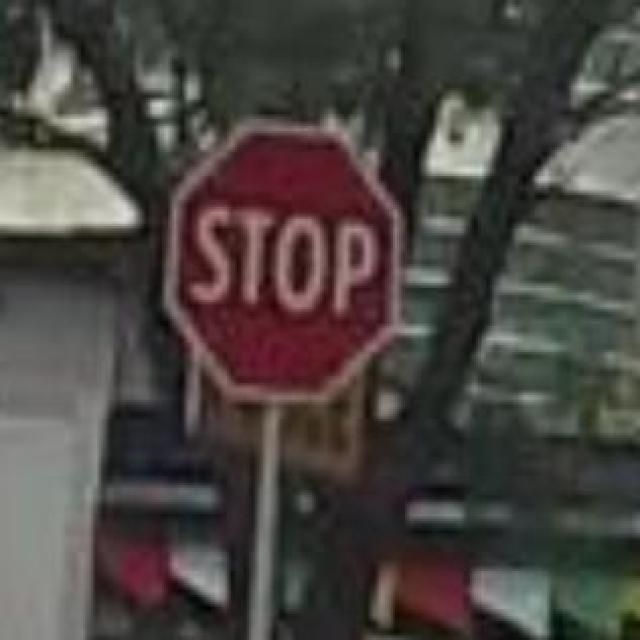traffic sign: (172, 129, 401, 390)
